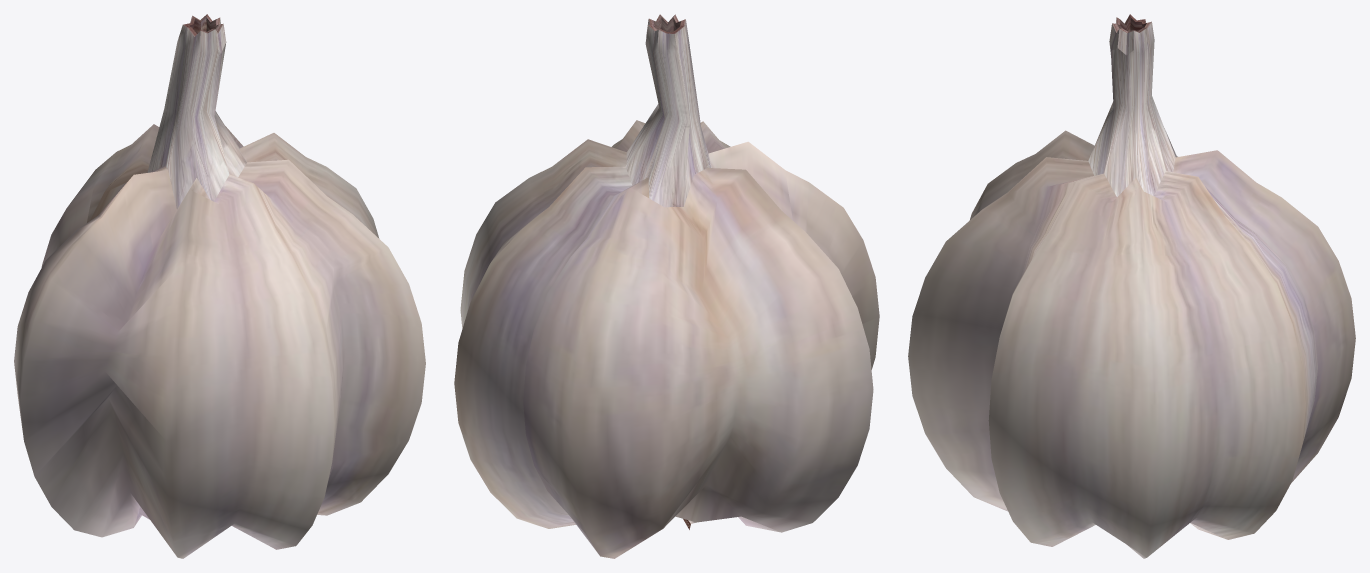
The model's file is garlic.fbx.
3 renders of one model, left to right at view 1: azimuth 30°, elevation 25°; view 2: azimuth 150°, elevation 25°; view 3: azimuth 270°, elevation 25°, orthographic.
Parts seen in each view (by area): view 1: garlic2; view 2: garlic2; view 3: garlic2.
Part boxes in pixels (x1,y1,x2,y2): garlic2: (14,14,425,558); garlic2: (454,14,879,558); garlic2: (908,14,1355,558).
Bounding box in the file's own units: 1.3 × 1.55 × 1.3.
1 material, 1 textured.
